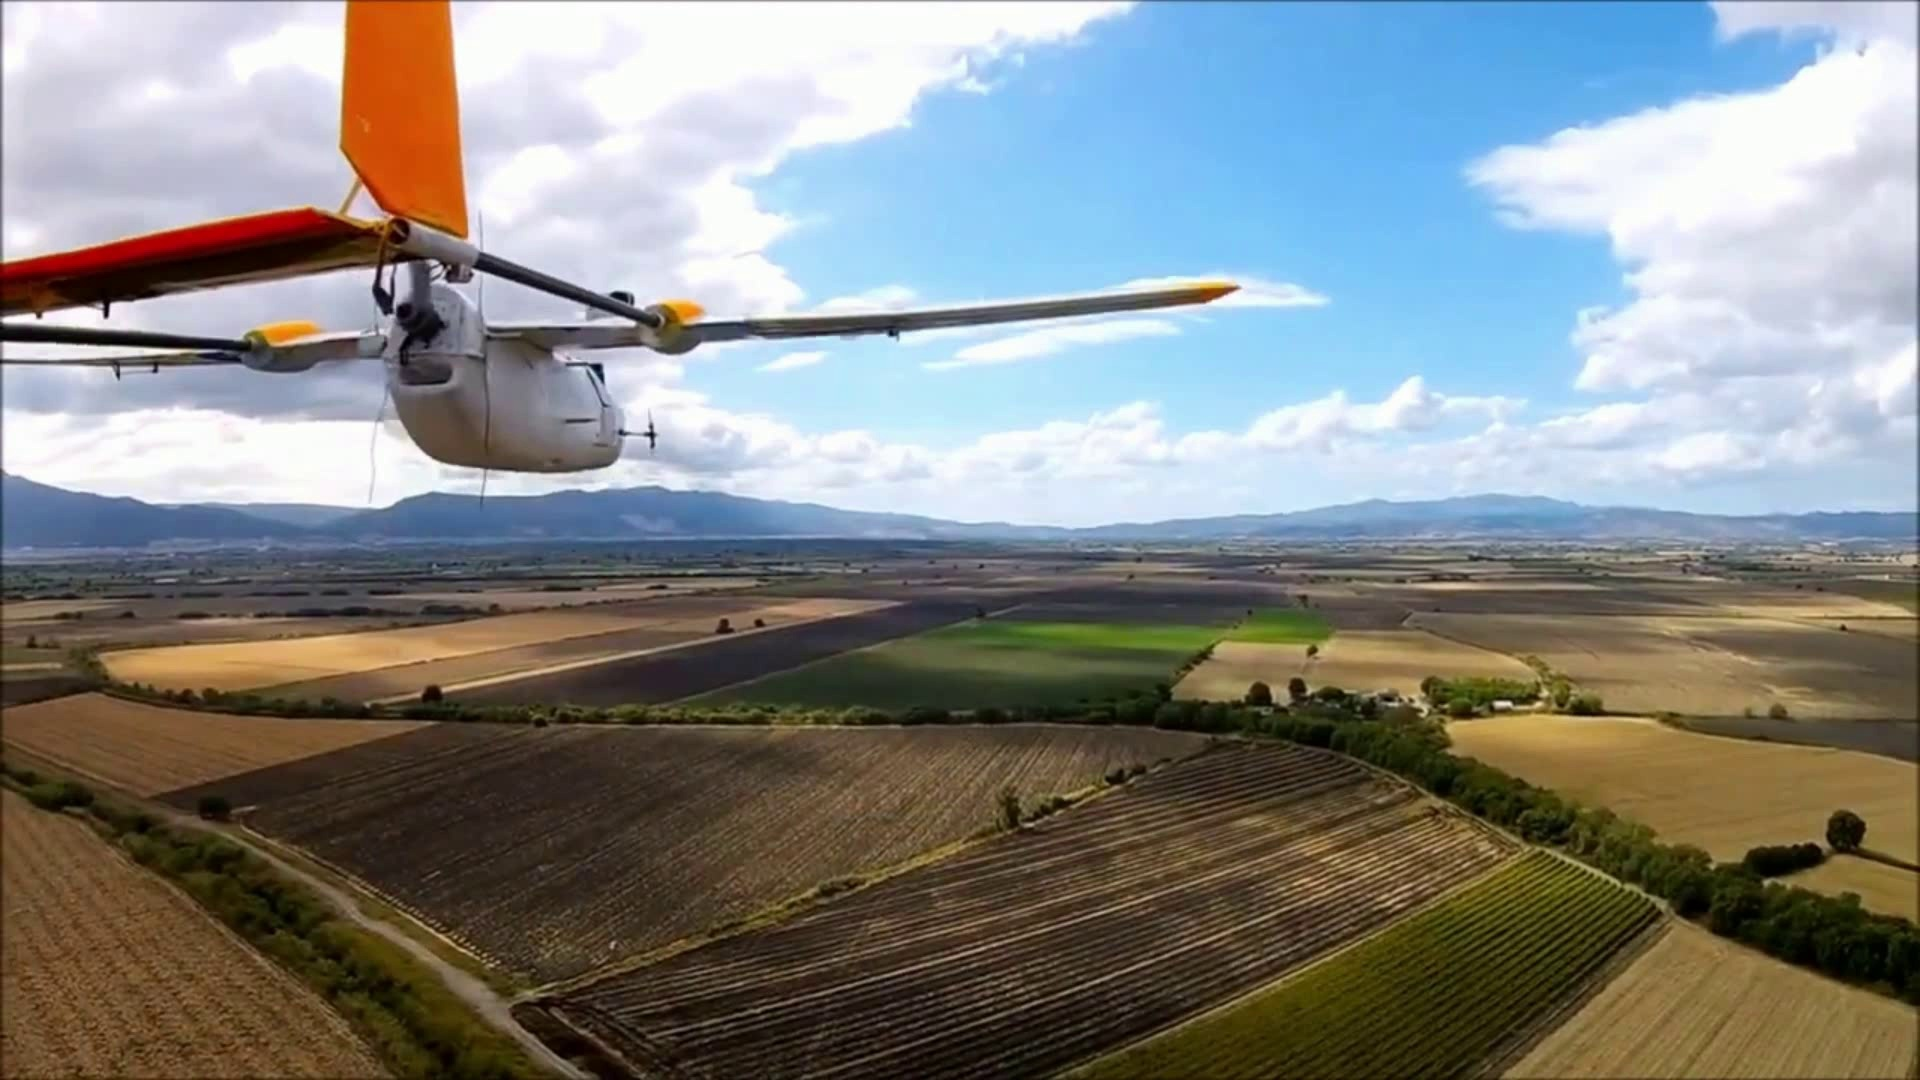airplane: (0, 5, 1238, 487)
